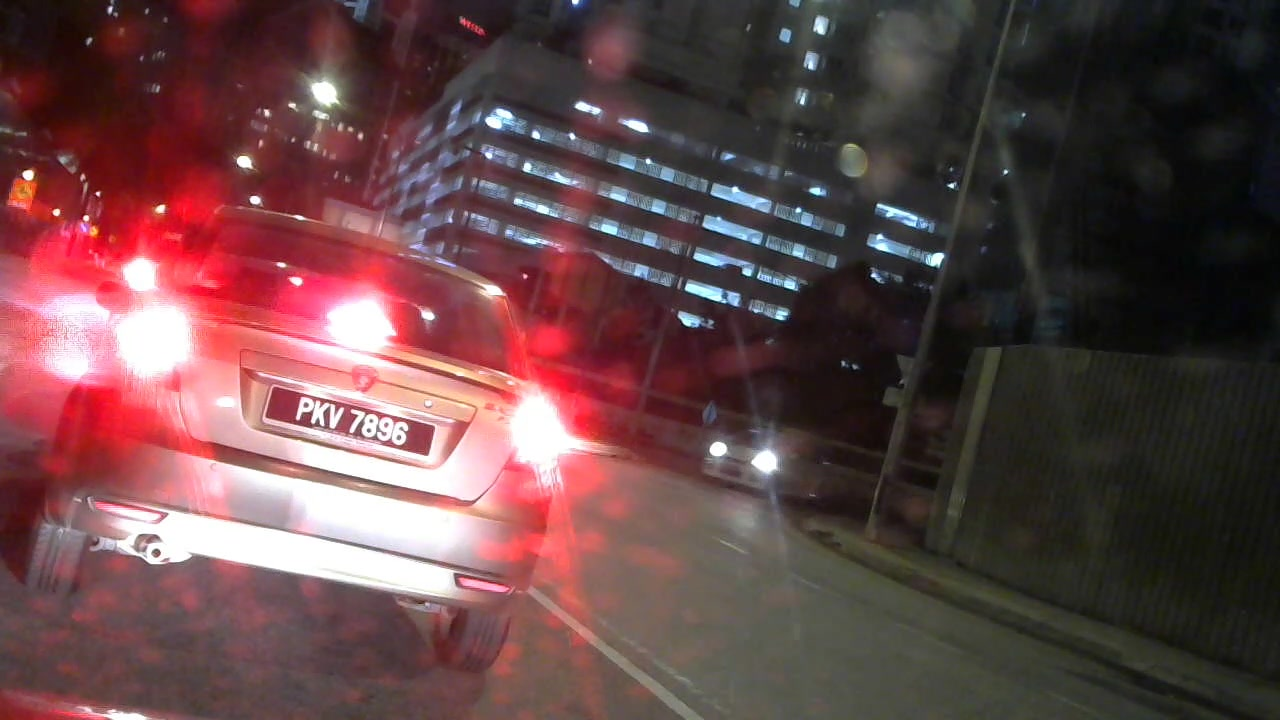Car: (24, 184, 568, 671), (687, 418, 851, 505)
